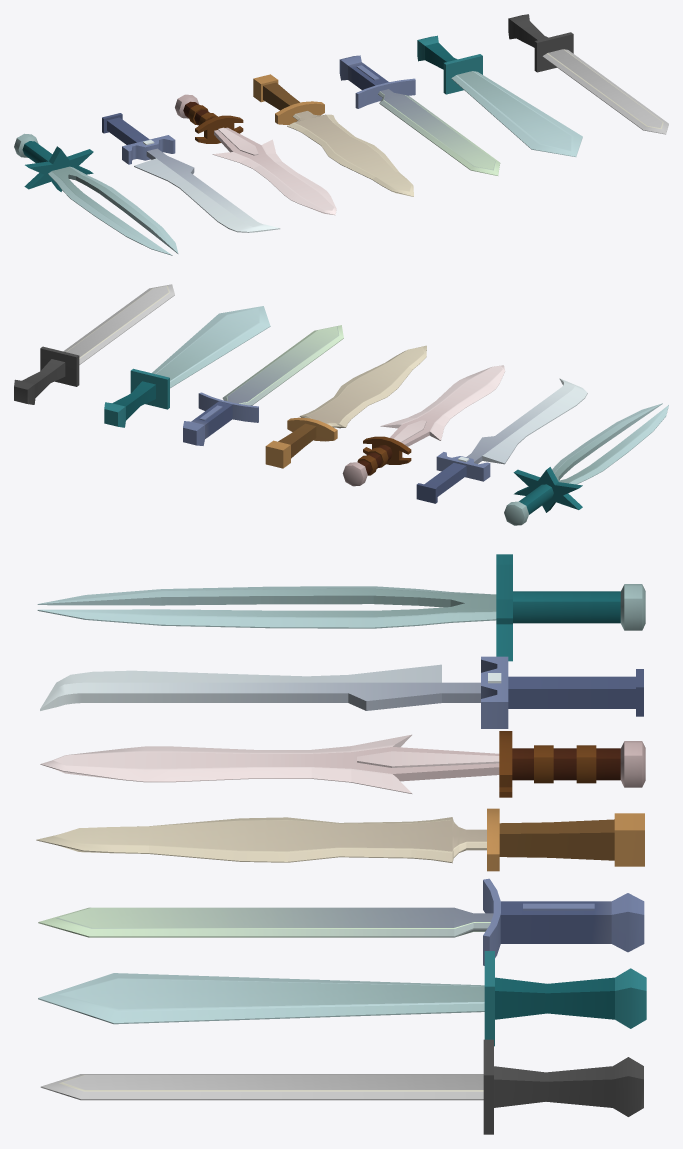
File: Swords.fbx
3 views of the same model, one above another, from view 1: azimuth 30°, elevation 25°; view 2: azimuth 150°, elevation 25°; view 3: azimuth 270°, elevation 25° (orthographic). The views are drawn at different scales.
Parts seen in each view (by area): view 1: Sw_2, Sw_4, Sw_7, Sw_5, Sw_3, Sw_6, Sw_1; view 2: Sw_2, Sw_4, Sw_7, Sw_5, Sw_3, Sw_6, Sw_1; view 3: Sw_2, Sw_4, Sw_7, Sw_3, Sw_5, Sw_6, Sw_1.
Boxes of the visible parts, x1=… form: Sw_2: x1=417, y1=35, x2=582, y2=156; Sw_4: x1=253, y1=74, x2=413, y2=196; Sw_7: x1=14, y1=133, x2=178, y2=255; Sw_5: x1=175, y1=94, x2=336, y2=215; Sw_3: x1=339, y1=55, x2=500, y2=175; Sw_6: x1=102, y1=113, x2=280, y2=232; Sw_1: x1=508, y1=14, x2=668, y2=134; Sw_2: x1=104, y1=306, x2=270, y2=427; Sw_4: x1=265, y1=345, x2=426, y2=468; Sw_7: x1=504, y1=403, x2=668, y2=525; Sw_5: x1=342, y1=365, x2=505, y2=486; Sw_3: x1=183, y1=325, x2=343, y2=445; Sw_6: x1=416, y1=378, x2=587, y2=503; Sw_1: x1=14, y1=284, x2=174, y2=404; Sw_2: x1=38, y1=951, x2=646, y2=1046; Sw_4: x1=36, y1=808, x2=644, y2=871; Sw_7: x1=37, y1=554, x2=645, y2=661; Sw_3: x1=38, y1=878, x2=644, y2=965; Sw_5: x1=40, y1=731, x2=645, y2=797; Sw_6: x1=40, y1=656, x2=643, y2=728; Sw_1: x1=40, y1=1039, x2=643, y2=1134.
Bounding box in the file's own units: 385 × 29.3 × 187.
